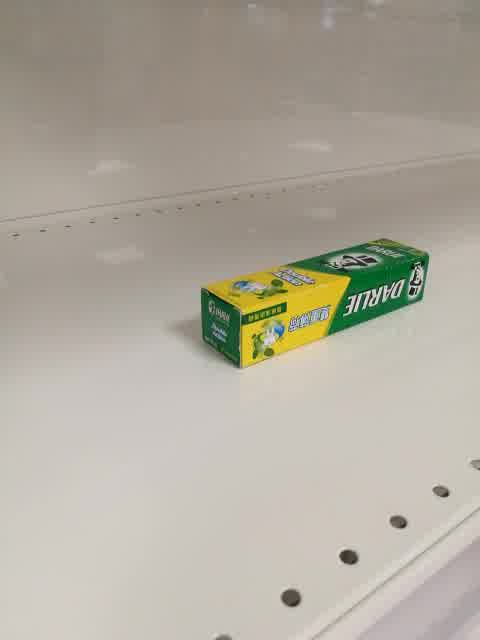toothpaste: (201, 234, 431, 371)
